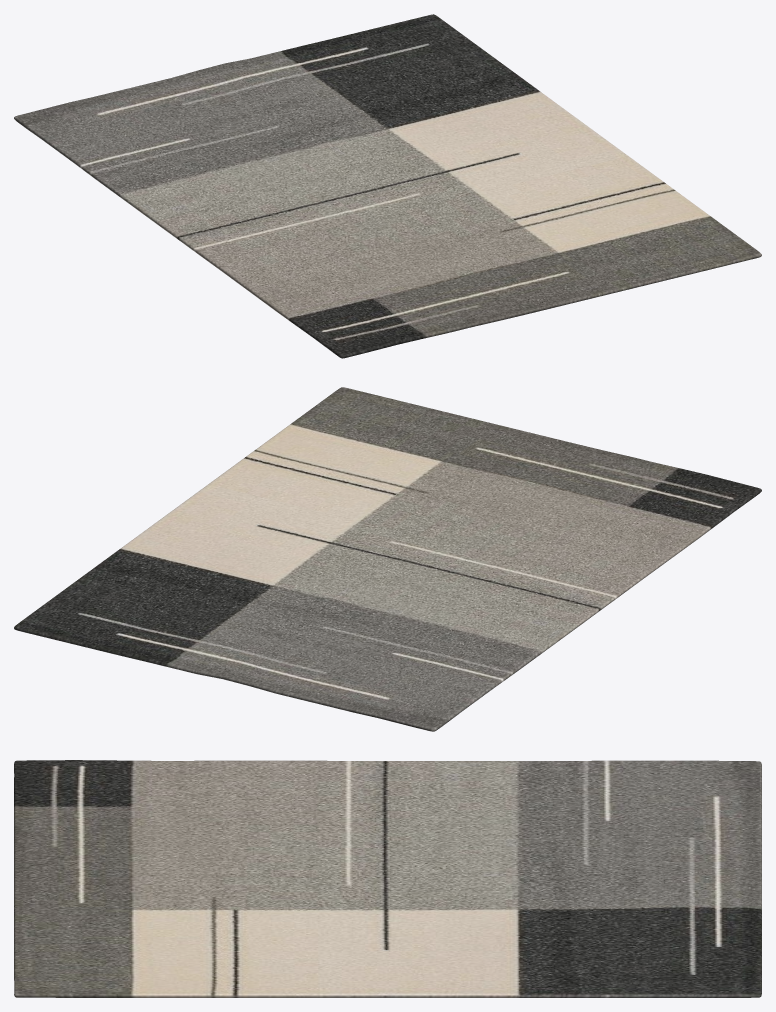
The model's file is Rug_03.glb.
The picture shows the model from 3 angles, top to bottom: view 1: azimuth 30°, elevation 25°; view 2: azimuth 150°, elevation 25°; view 3: azimuth 270°, elevation 25°; orthographic projection. The views are drawn at different scales.
Visible parts, largest first — view 1: BP_Rug_03; view 2: BP_Rug_03; view 3: BP_Rug_03.
Part boxes in pixels (x1,y1,x2,y2): BP_Rug_03: (14, 14, 761, 358); BP_Rug_03: (14, 387, 761, 731); BP_Rug_03: (14, 760, 761, 997).
Bounding box in the file's own units: 2 × 0.0259 × 2.7.
1 material, 1 textured.
